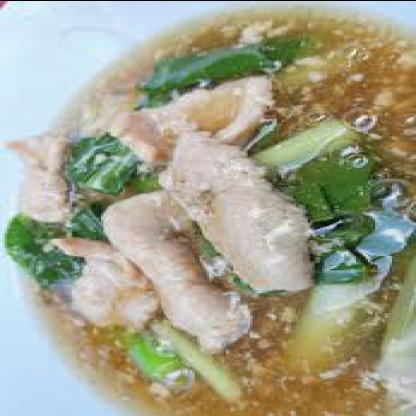Laadna: (12, 17, 390, 415)
